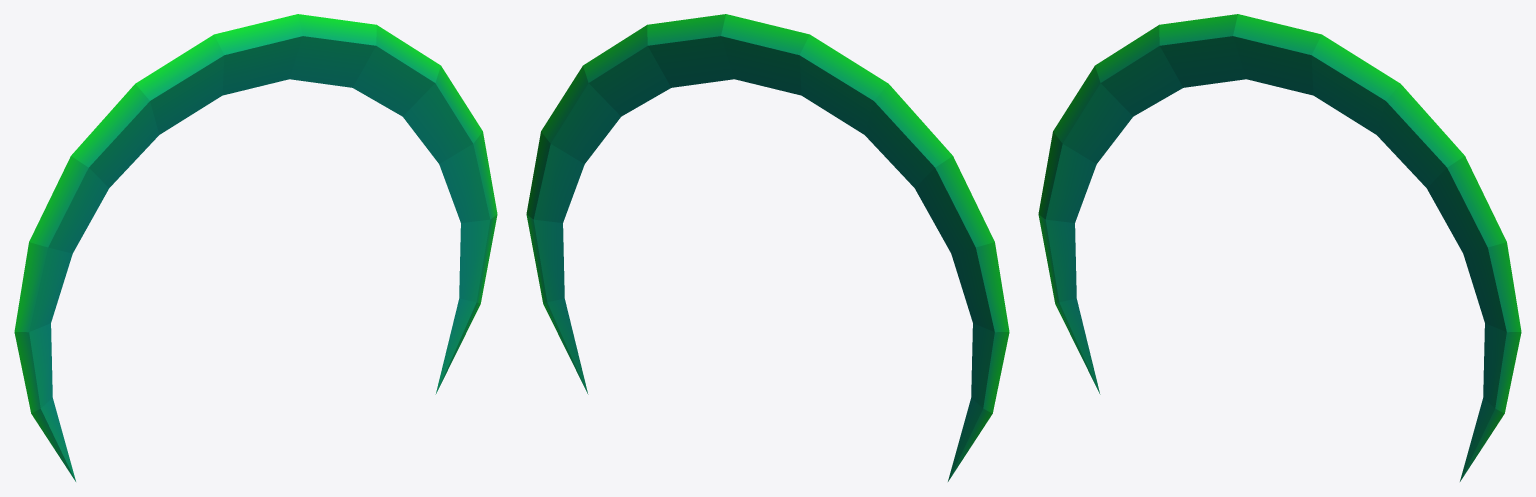
File: FX_Mathias_AtkSwing_002.FBX
The picture shows the model from 3 angles, left to right: view 1: azimuth 30°, elevation 25°; view 2: azimuth 150°, elevation 25°; view 3: azimuth 330°, elevation 25°; orthographic projection.
Visible parts, largest first — view 1: FX_Mathias_AtkNormal_02; view 2: FX_Mathias_AtkNormal_02; view 3: FX_Mathias_AtkNormal_02.
Part boxes in pixels (left/top/right/bottom): FX_Mathias_AtkNormal_02: left=14, top=14, right=497, bottom=481; FX_Mathias_AtkNormal_02: left=526, top=14, right=1009, bottom=481; FX_Mathias_AtkNormal_02: left=1038, top=14, right=1521, bottom=481.
Size of the model in its own units: 457 by 375 by 25.27.
